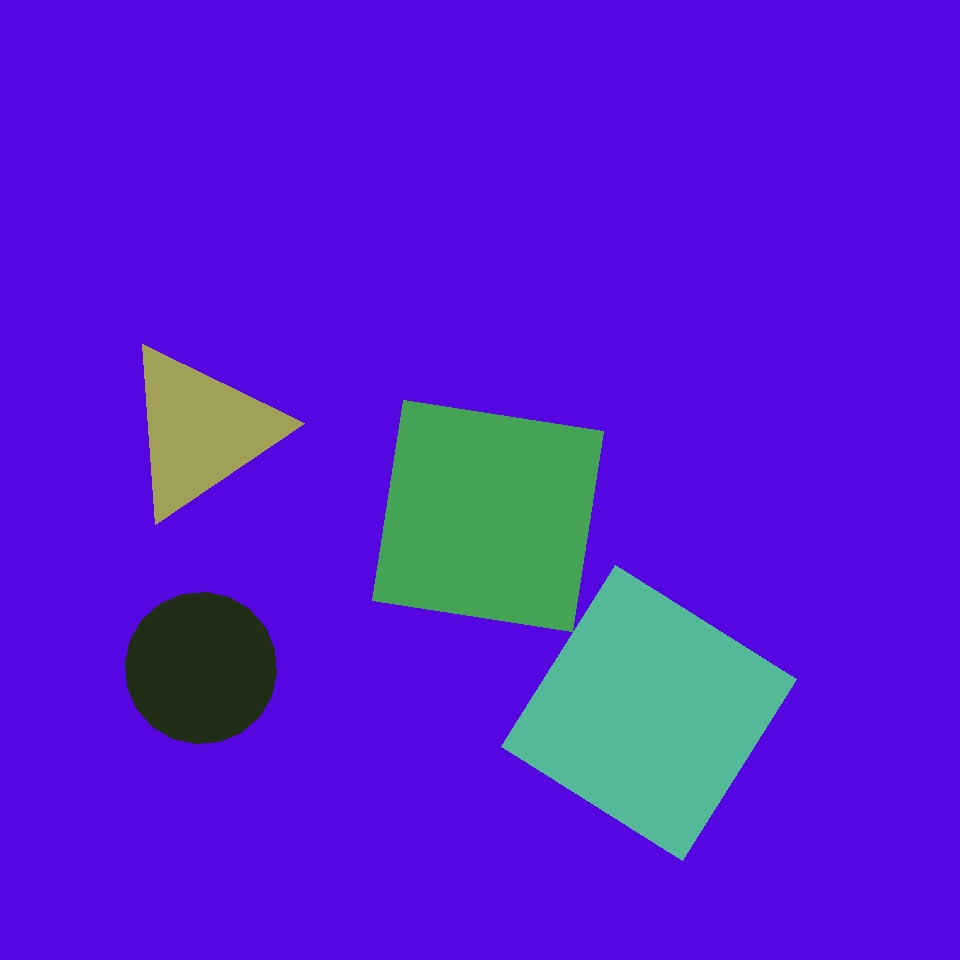circle: (120, 341, 282, 521)
square: (501, 565, 796, 860), (372, 400, 604, 632)
triangle: (126, 592, 276, 744)
